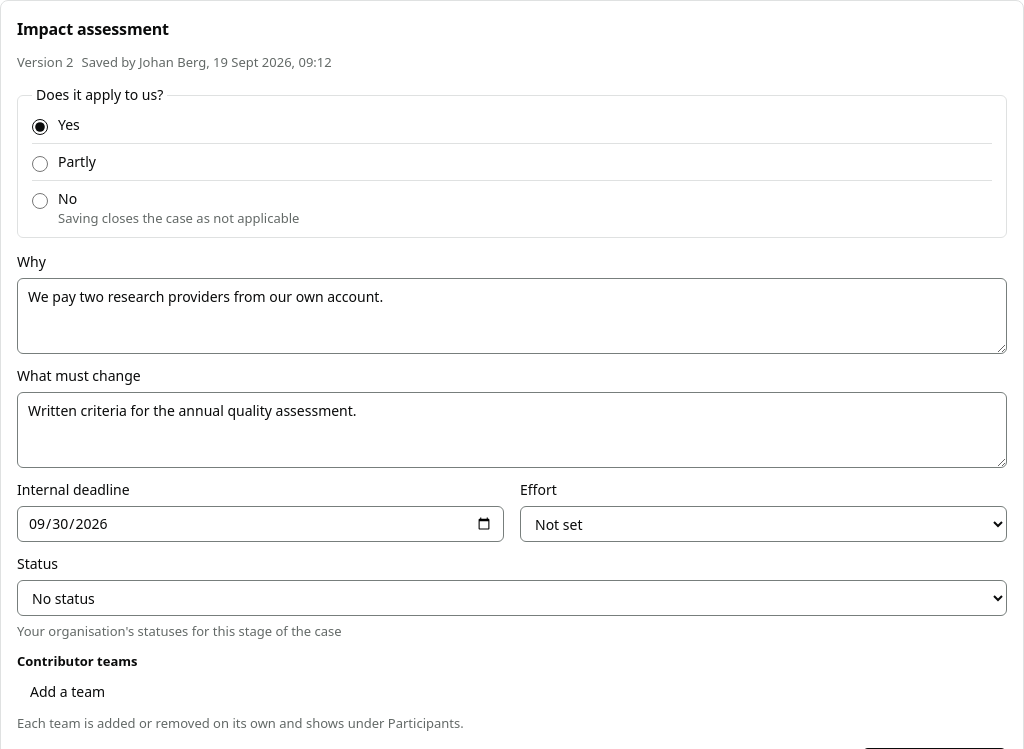
Test case: "No" closes the case › is offered to a holder of cases.work, and asks before it closes
Later steps or results of the test are not shown.
Click the radio button labelled "No Saving closes the case as not applicable" at (40,201), box x1=32 y1=193 x2=48 y2=209
(page scrolled)
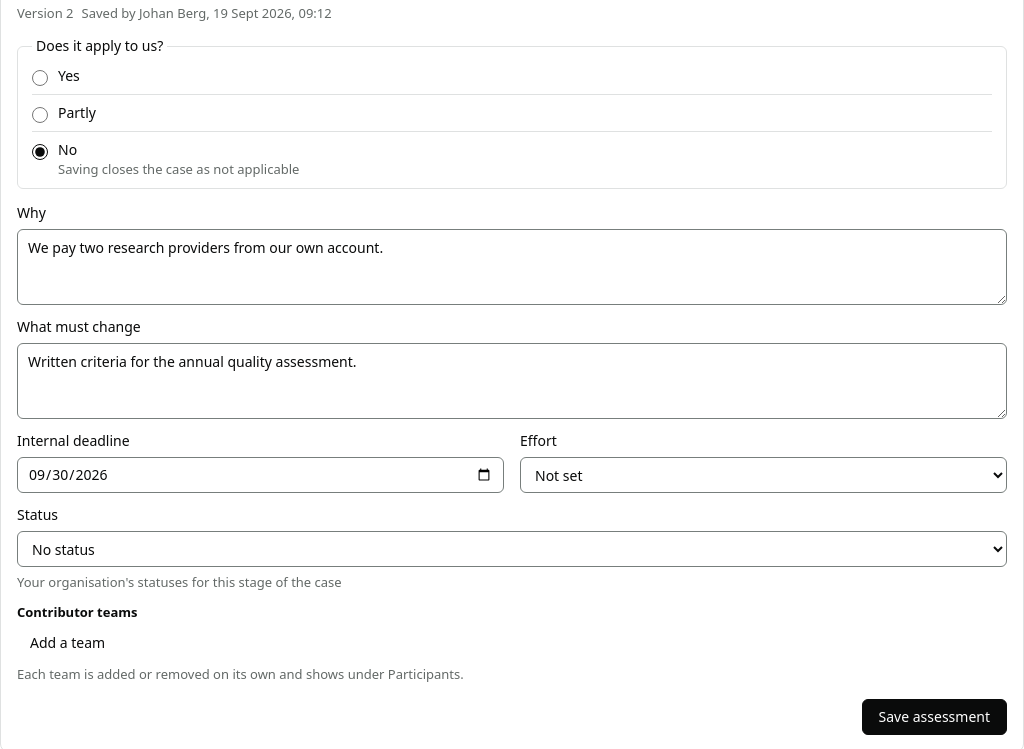
Expected: the text "Saving closes the case as not applicable" is shown, x1=58 y1=160 x2=299 y2=178
Click the button "Save assessment" at (934,717), box x1=862 y1=699 x2=1007 y2=735
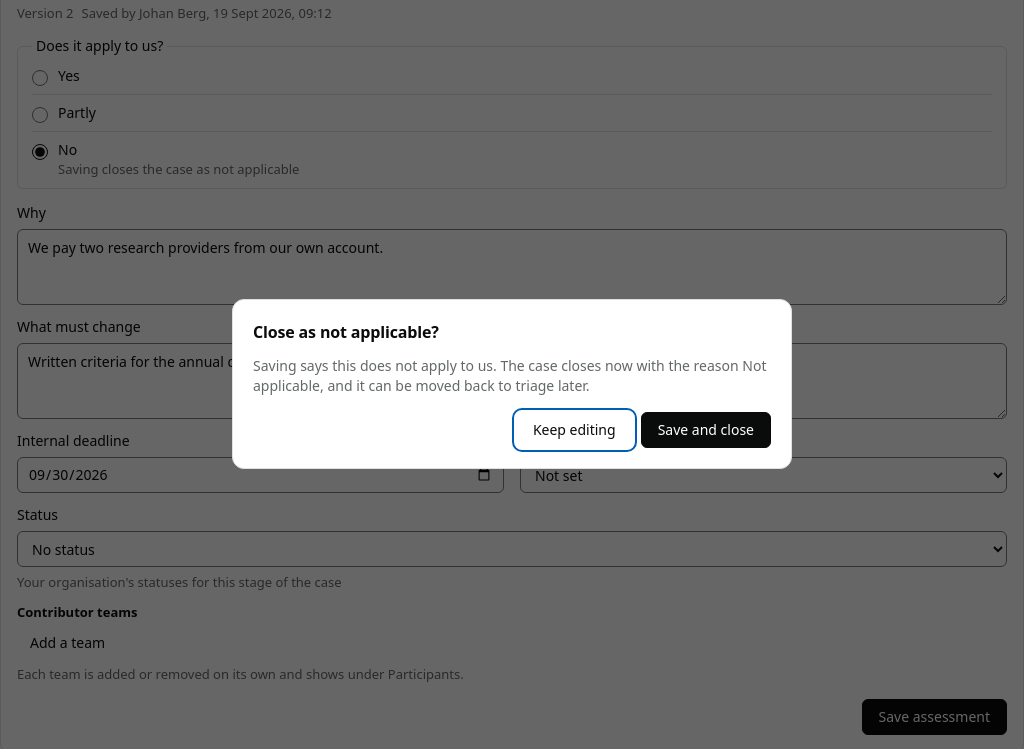
Click the button "Keep editing" at (574,430), box x1=516 y1=412 x2=633 y2=448
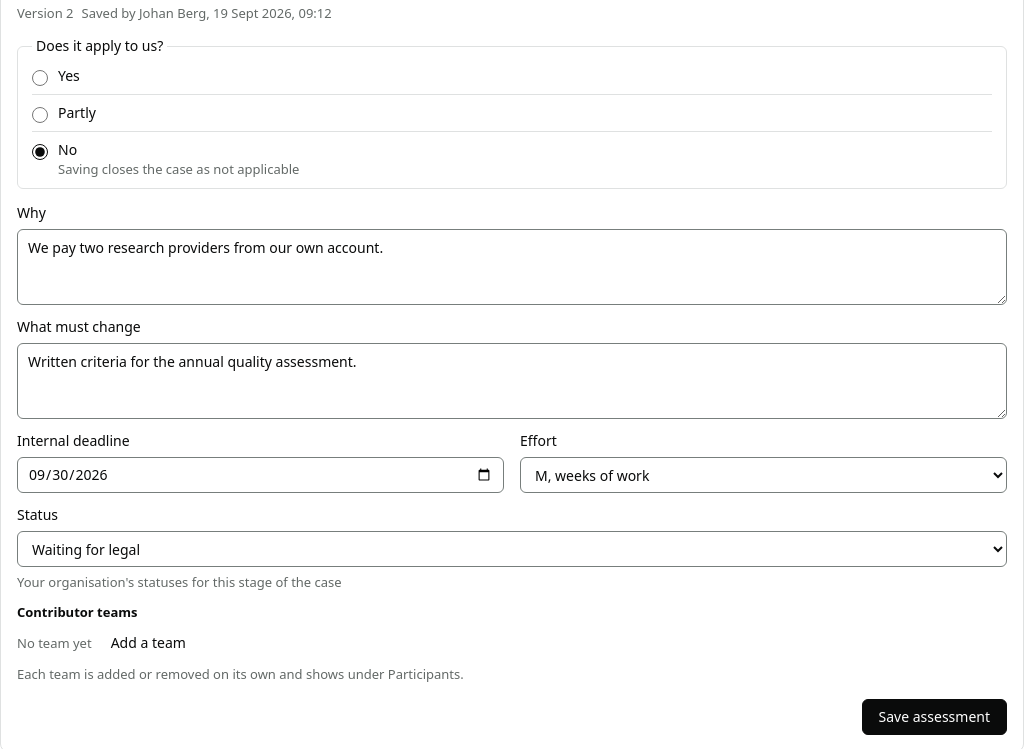
Result: the dialog is gone
